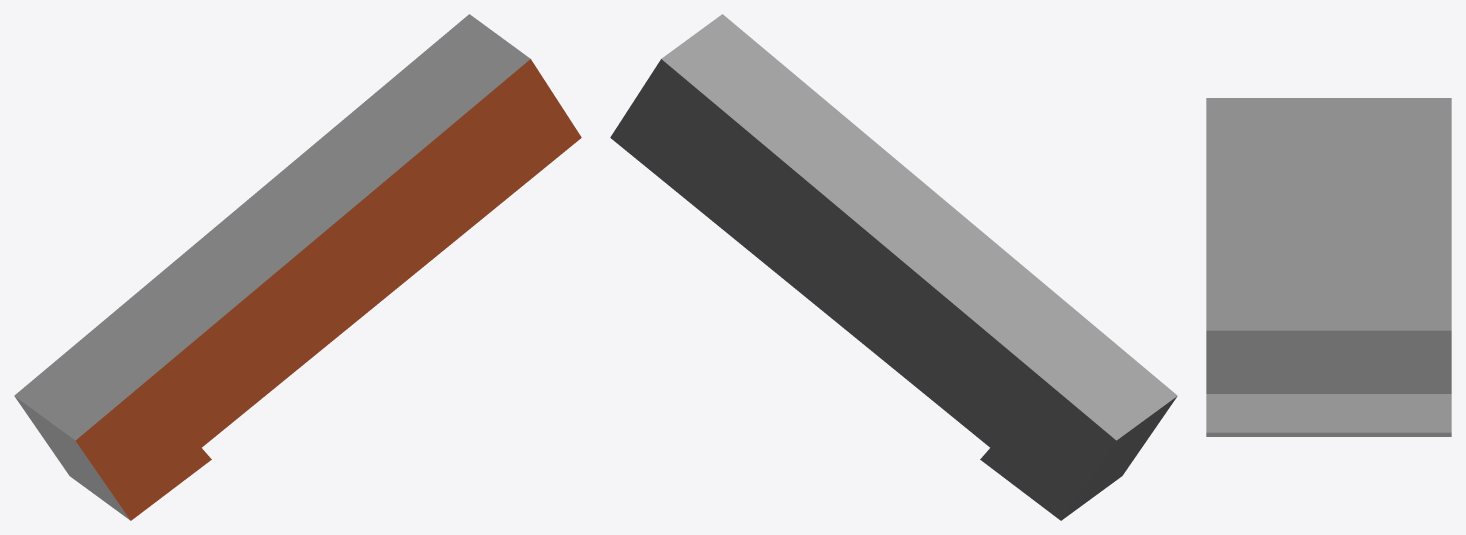
Rendered from construction_1811_assumed_A_Casa_h6m.obj.
3 renders of one model, left to right at view 1: azimuth 30°, elevation 25°; view 2: azimuth 150°, elevation 25°; view 3: azimuth 270°, elevation 25°, orthographic. The views are drawn at different scales.
Parts seen in each view (by area): view 1: construction_1811_assumed_A_Casa; view 2: construction_1811_assumed_A_Casa; view 3: construction_1811_assumed_A_Casa.
Boxes of the visible parts, <box> form: construction_1811_assumed_A_Casa: <box>14,14,581,520</box>; construction_1811_assumed_A_Casa: <box>610,14,1177,520</box>; construction_1811_assumed_A_Casa: <box>1206,98,1451,436</box>.
Size of the model in its own units: 28.59 by 19.67 by 6.
